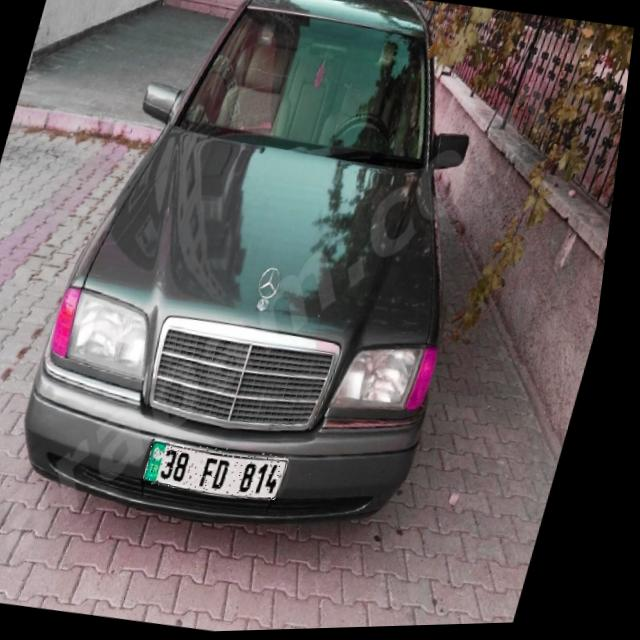license_plate: (151, 437, 303, 507)
